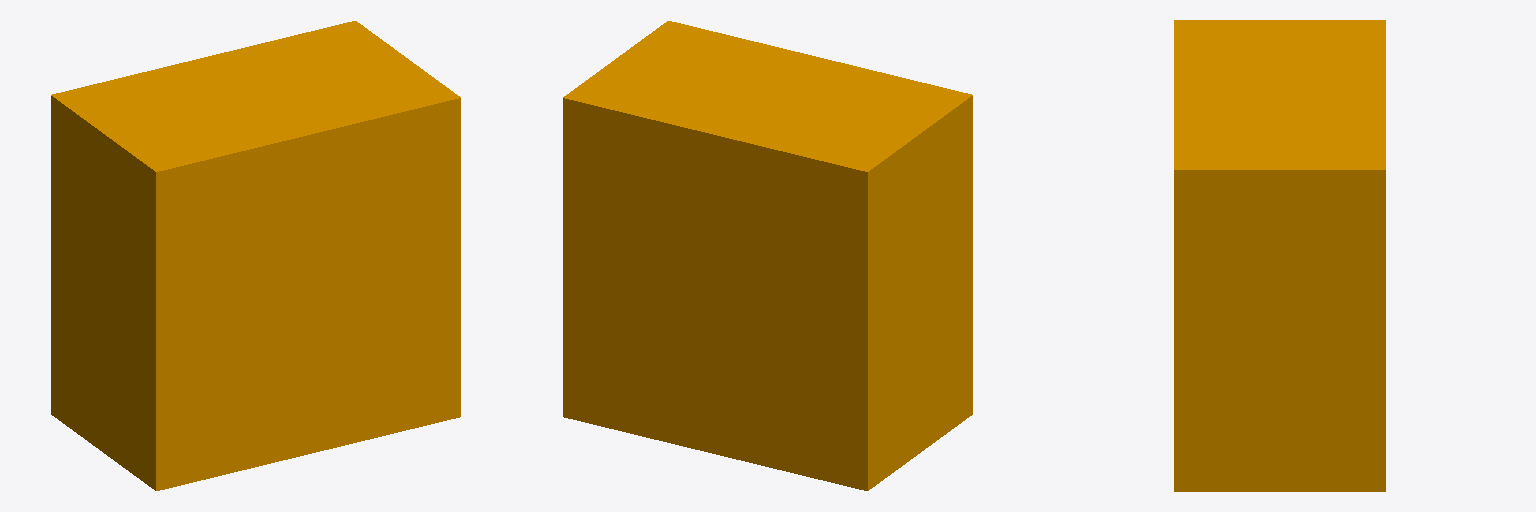
URDF robot description (block):
<robot name="block">
  <link name="block">
    <inertial>
      <origin xyz="0.0 0.0 0.0" />
      <mass value="0.5" />
      <inertia  ixx="0.5" ixy="0.0"  ixz="0.0"  iyy="0.5"  iyz="0.0"  izz="0.5" />
    </inertial>
    <visual>
      <origin xyz="0.0 0.0 0.0"/>
      <geometry>
        <box size="0.05 0.03 0.05" />
      </geometry>
    </visual>
    <collision>
      <origin xyz="0.0 0.0 0.0"/>
      <geometry>
        <box size="0.05 0.03 0.05" />
      </geometry>
    </collision>
  </link>
  <gazebo reference="block">
    <material>Gazebo/Green</material>
     <mu1>0.8</mu1>
     <mu2>0.8</mu2>
  </gazebo>
</robot>

--- Render facts (derived) ---
The picture shows the robot from 3 angles, left to right: view 1: azimuth 30°, elevation 25°; view 2: azimuth 150°, elevation 25°; view 3: azimuth 270°, elevation 25°; orthographic projection.
Robot: block — 1 links, 0 joints (none); root link block; default pose: all joints at 0.
Links seen in each view (by area): view 1: block; view 2: block; view 3: block.
Boxes of the visible links, x1,y1,x2,y2 form: block: [51, 21, 460, 490]; block: [563, 21, 972, 490]; block: [1174, 20, 1385, 491].
Bounding box of the posed robot: 0.05 × 0.03 × 0.05 m (x, y, z).
Geometry: primitives only (box / cylinder / sphere), no mesh files.